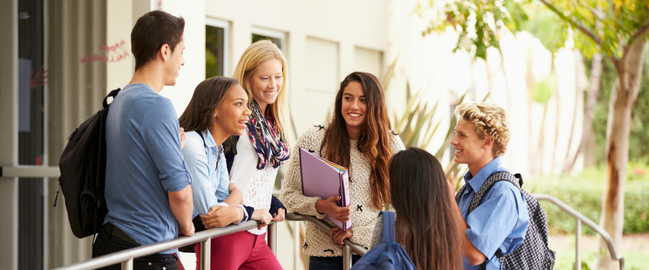Person: (59, 9, 196, 270), (278, 70, 407, 270), (196, 39, 289, 270), (450, 102, 557, 270), (178, 75, 254, 270), (347, 147, 466, 270)
